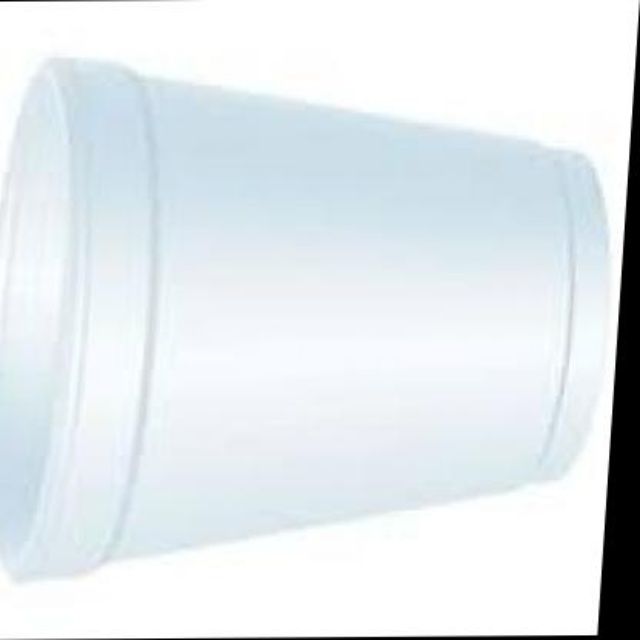trash: (0, 58, 606, 575)
